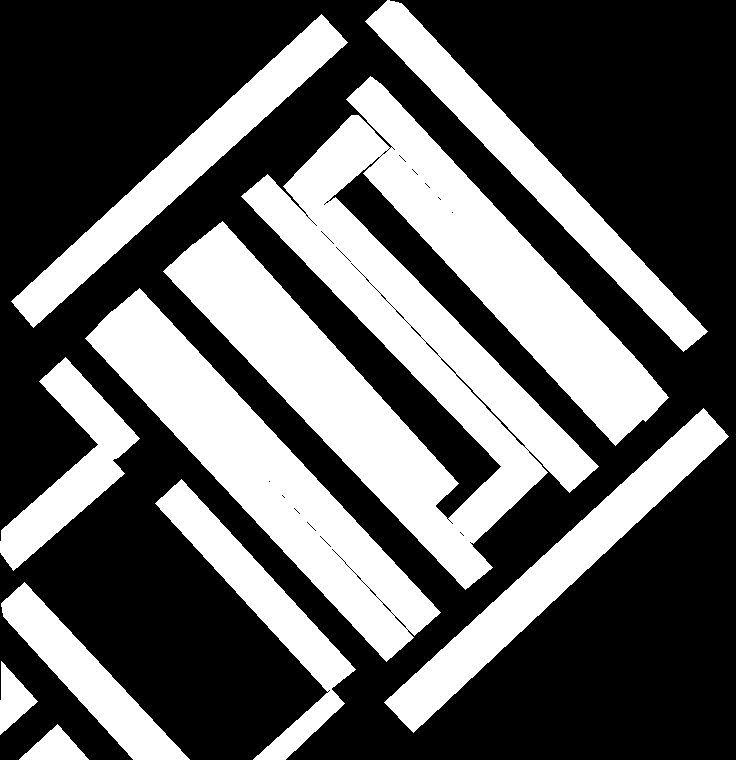parkingspot: (365, 0, 707, 351), (85, 311, 413, 661), (111, 288, 440, 635), (163, 244, 492, 589), (384, 408, 728, 732), (346, 76, 668, 421), (11, 14, 347, 327), (308, 197, 598, 492), (363, 147, 643, 445), (241, 174, 522, 467), (192, 221, 458, 505), (155, 479, 355, 691), (1, 582, 189, 759), (0, 444, 124, 570), (283, 115, 389, 216), (39, 357, 139, 459), (448, 445, 547, 543), (253, 689, 344, 760), (0, 661, 37, 734), (19, 724, 88, 760)
